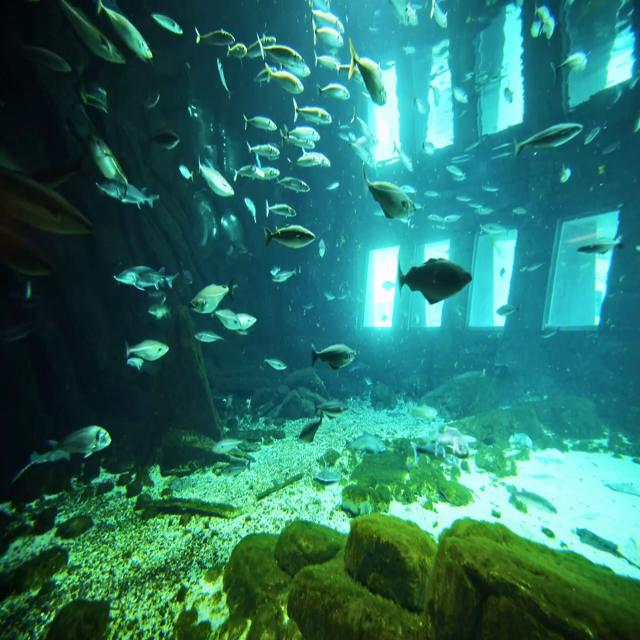fish: (396, 251, 478, 301), (58, 0, 124, 62), (96, 0, 155, 69), (359, 162, 417, 223), (510, 118, 584, 164), (347, 36, 388, 104), (90, 176, 162, 214), (114, 260, 179, 298), (310, 1, 346, 51), (193, 274, 238, 314), (201, 155, 236, 202), (266, 220, 316, 252), (578, 229, 628, 258), (230, 161, 284, 187), (262, 62, 302, 96), (311, 342, 356, 371), (124, 334, 170, 362), (311, 45, 343, 79), (296, 100, 336, 127), (147, 11, 185, 39), (316, 80, 356, 106), (275, 172, 313, 196), (241, 112, 281, 132)
